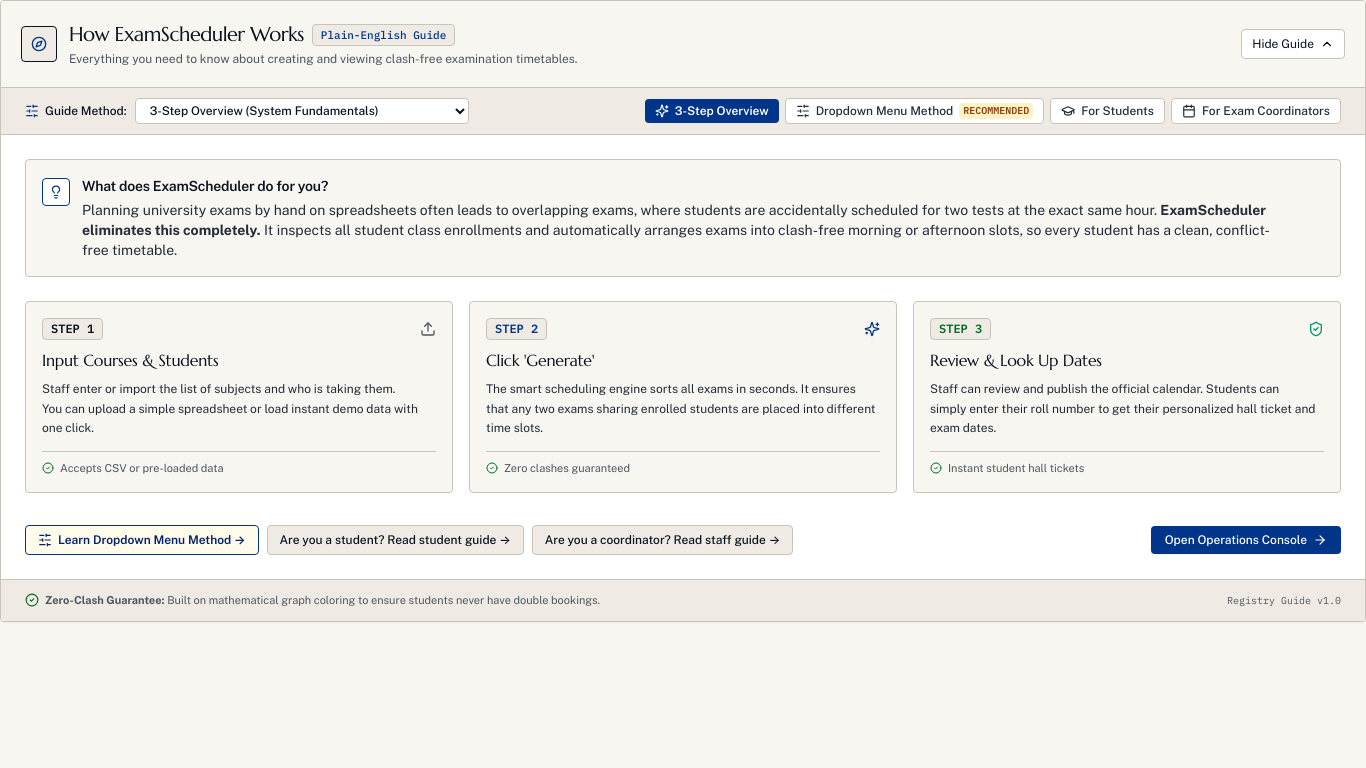
Test: QuickGuideBox Component › switches method using the guide method select dropdown menu
Select "Dropdown Menu Method (No Spreadsheets Needed)" in the dropdown named "select guide method" at (302, 111), box [135,98,469,124]
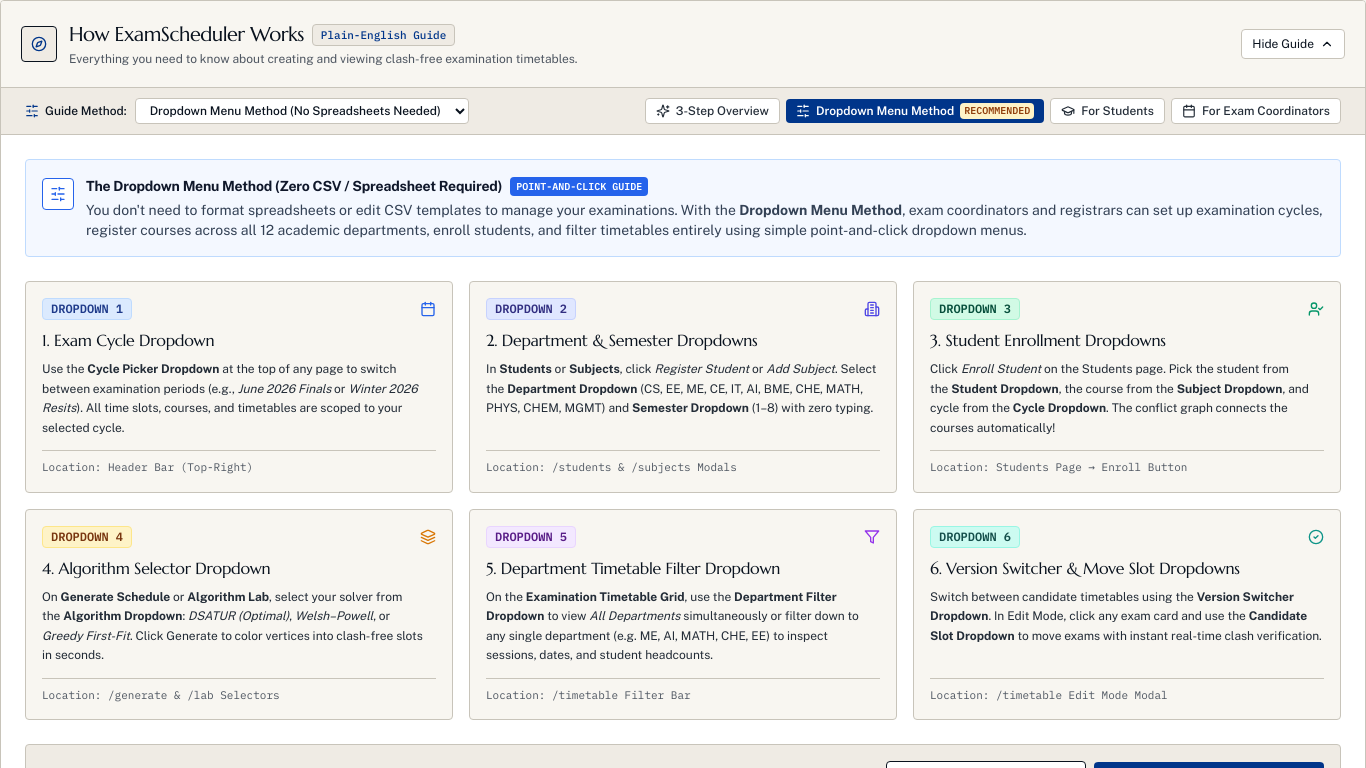
Expected: the heading "The Dropdown Menu Method (Zero CSV / Spreadsheet Required)" is shown, [86,176,502,196]
